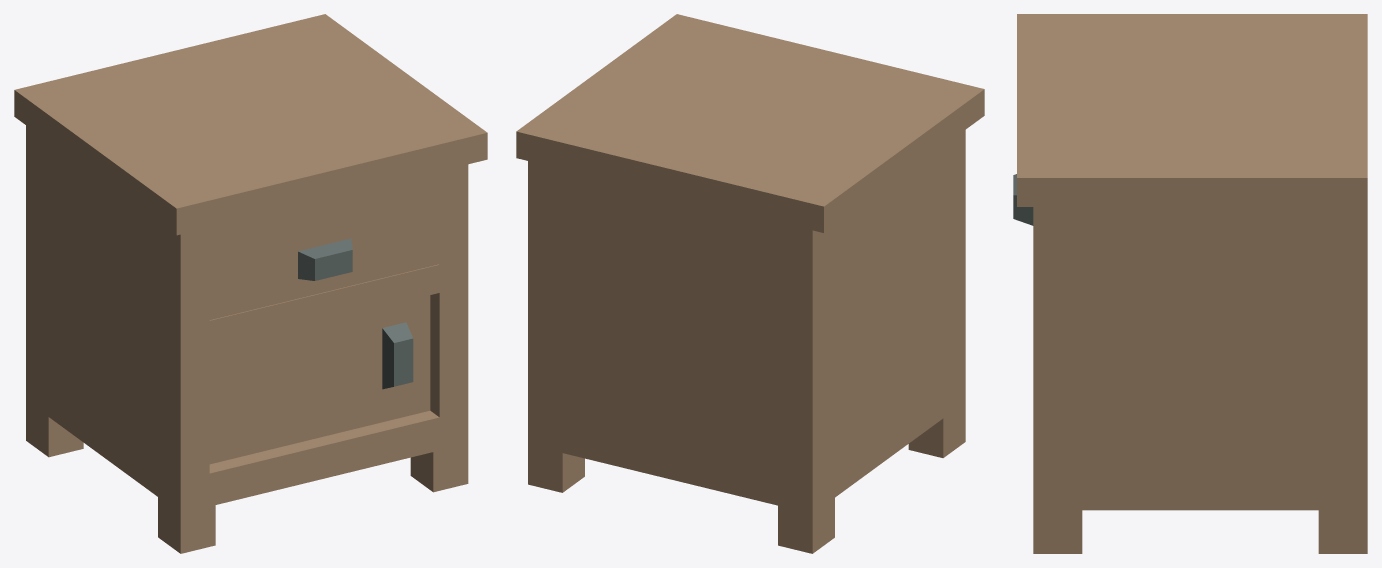
The model's file is bedside_table.glb.
3 views of the same model, side by side, from view 1: azimuth 30°, elevation 25°; view 2: azimuth 150°, elevation 25°; view 3: azimuth 270°, elevation 25° (orthographic). The views are drawn at different scales.
Visible parts, largest first — view 1: cabinetBedDrawer(Clone), door, drawer; view 2: cabinetBedDrawer(Clone); view 3: cabinetBedDrawer(Clone), drawer.
Boxes of the visible parts, box(x1,y1,x2,y2) form: cabinetBedDrawer(Clone): box(14, 14, 487, 553); door: box(209, 295, 430, 464); drawer: box(209, 197, 439, 319); cabinetBedDrawer(Clone): box(516, 14, 984, 553); cabinetBedDrawer(Clone): box(1017, 14, 1367, 553); drawer: box(1013, 174, 1033, 225).
Size of the model in its own units: 0.46 by 0.5 by 0.42.
